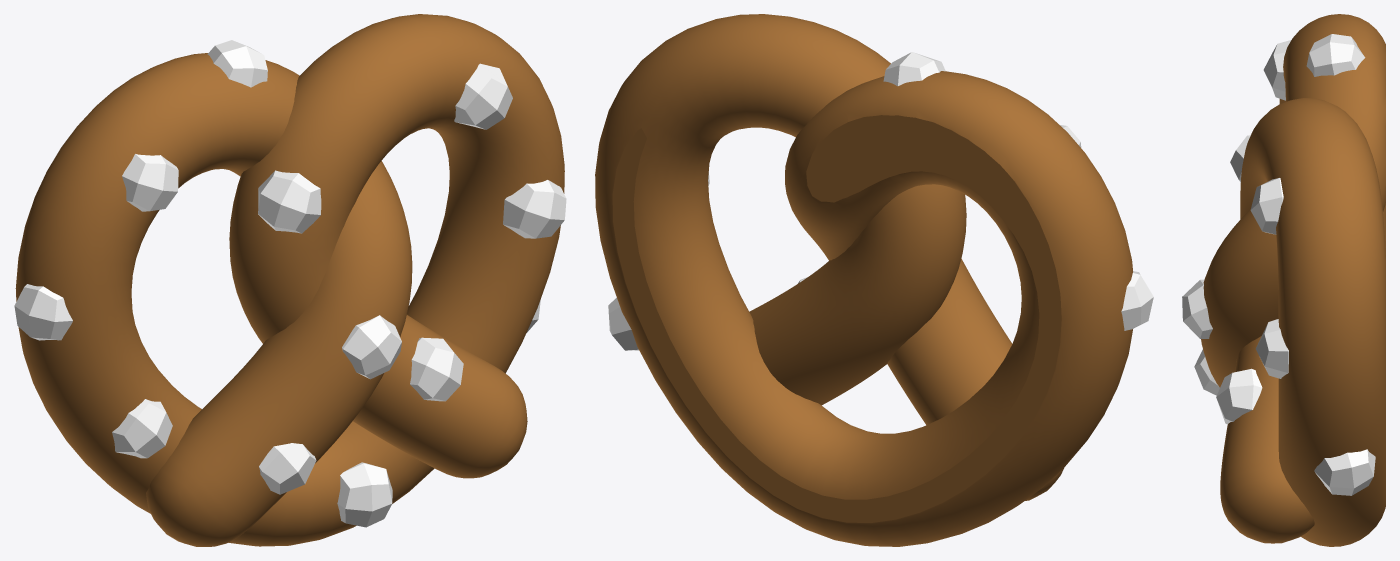
The model's file is pretzel.glb.
3 views of the same model, side by side, from view 1: azimuth 30°, elevation 25°; view 2: azimuth 150°, elevation 25°; view 3: azimuth 270°, elevation 25° (orthographic). The views are drawn at different scales.
Visible parts, largest first — view 1: BézierCurve.027, BézierCurve.028; view 2: BézierCurve.027, BézierCurve.028; view 3: BézierCurve.027, BézierCurve.028.
Part boxes in pixels (left/top/right/bottom): BézierCurve.027: left=15, top=14, right=564, bottom=546; BézierCurve.028: left=14, top=40, right=566, bottom=527; BézierCurve.027: left=595, top=14, right=1132, bottom=546; BézierCurve.028: left=608, top=52, right=1153, bottom=350; BézierCurve.027: left=1201, top=14, right=1385, bottom=546; BézierCurve.028: left=1182, top=34, right=1375, bottom=495.
Size of the model in its own units: 15.2 by 13.49 by 5.39.
